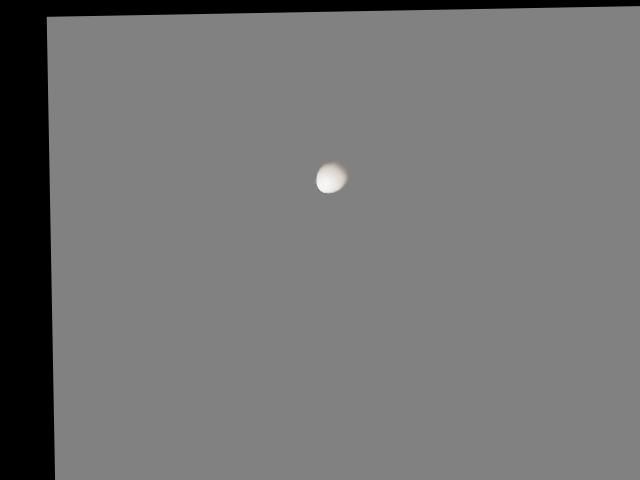egg: (316, 160, 349, 193)
